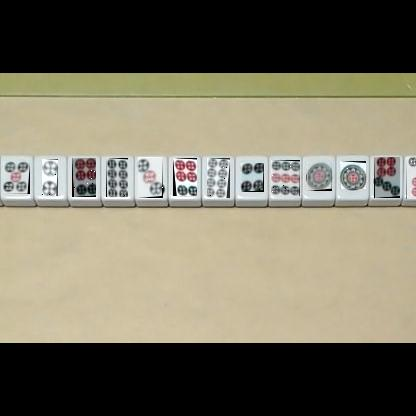1p: (340, 161, 366, 189), (307, 162, 332, 191)
2p: (42, 159, 58, 196)
3p: (138, 157, 163, 198)
4p: (241, 163, 264, 192)
5p: (3, 162, 30, 194)
6p: (72, 158, 96, 197), (173, 158, 197, 196)
7p: (374, 157, 400, 198), (406, 157, 416, 199)
8p: (207, 158, 230, 198), (106, 158, 128, 197)
9p: (271, 160, 300, 196)
